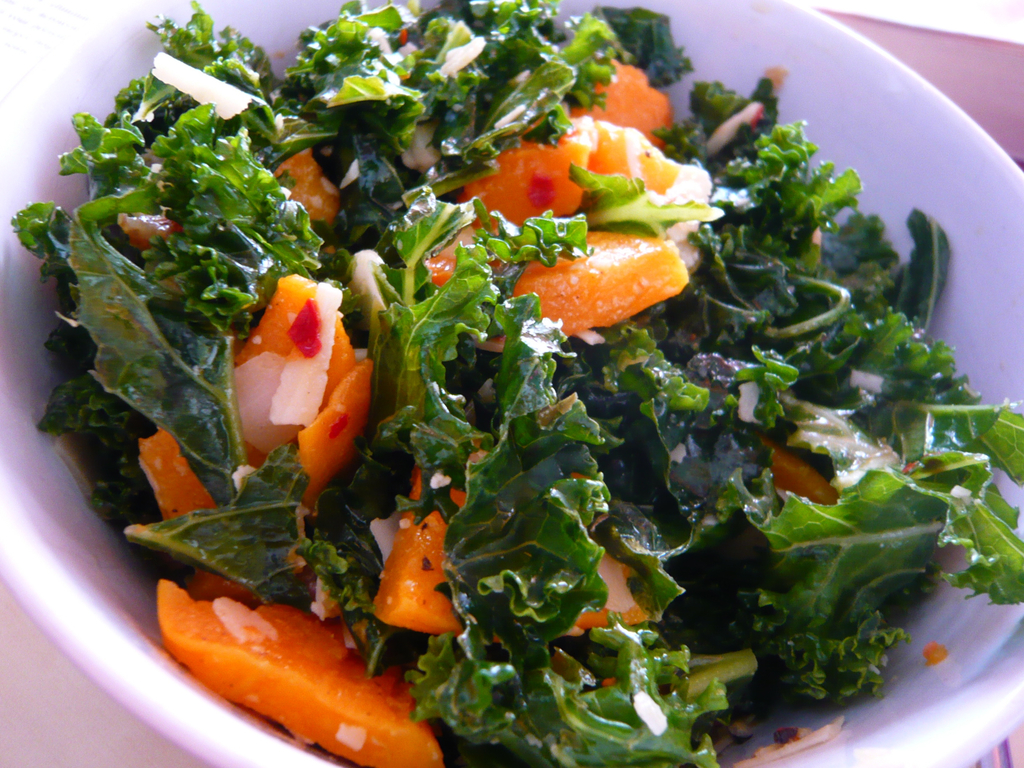Carrot: (416, 59, 697, 346), (140, 261, 382, 507), (154, 572, 448, 767), (367, 477, 656, 632), (273, 140, 336, 219)
